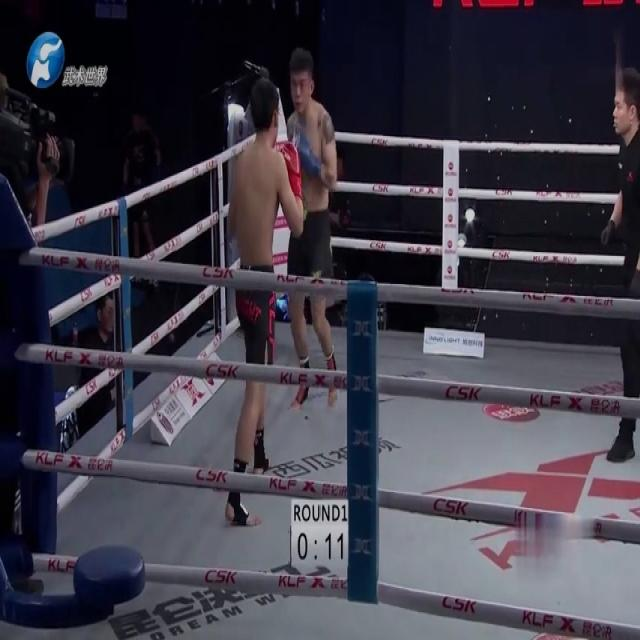fight: (212, 44, 340, 525)
non-fight: (593, 61, 639, 471)
